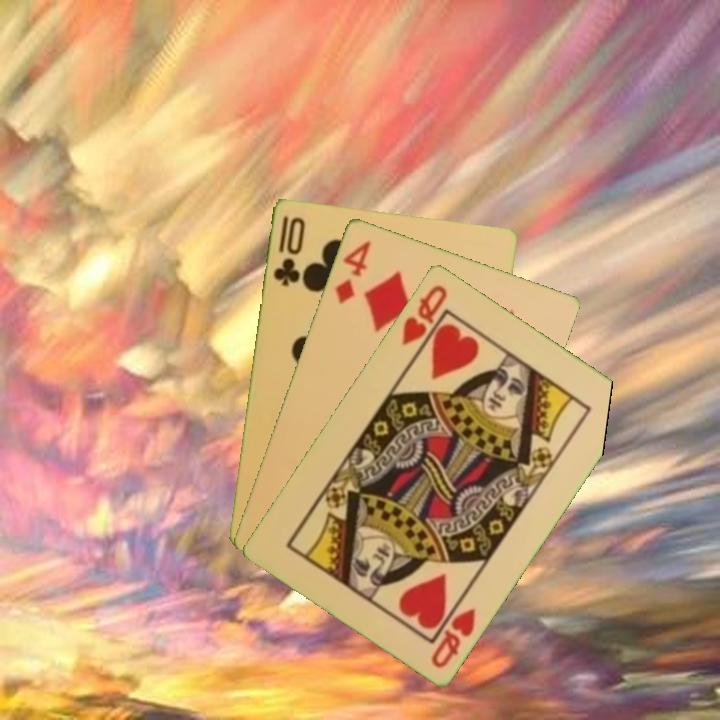10c: (269, 212, 308, 289)
4d: (331, 236, 374, 307)
Qh: (398, 281, 451, 348), (427, 603, 479, 671)
